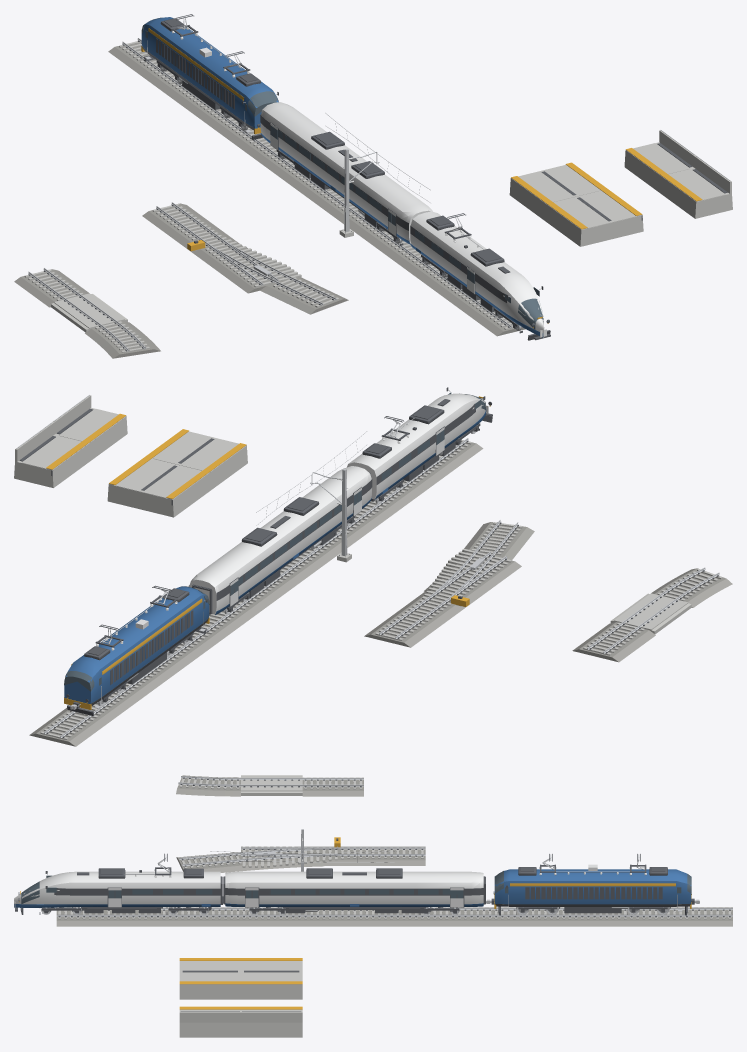
Rendered from modern-rail-and-metro-network-connector-cases-95ef7893__13728.glb.
3 views of the same model, one above another, from view 1: azimuth 30°, elevation 25°; view 2: azimuth 150°, elevation 25°; view 3: azimuth 270°, elevation 25° (orthographic). The views are drawn at different scales.
Visible parts, largest first — view 1: 007-high-speed-trailer-car/0, 006-high-speed-power-car/0, 008-electric-freight-locomotive/0, 010-island-platform-module/0, 008-electric-freight-locomotive/1, 012-side-platform-module/0, 009-island-platform-module/0, 006-high-speed-power-car/2, 007-high-speed-trailer-car/2, 011-side-platform-module/0, 004-turnout-right/1, 004-turnout-right/0 (+23 smaller); view 2: 007-high-speed-trailer-car/0, 008-electric-freight-locomotive/0, 006-high-speed-power-car/0, 009-island-platform-module/0, 008-electric-freight-locomotive/1, 011-side-platform-module/0, 010-island-platform-module/0, 007-high-speed-trailer-car/2, 006-high-speed-power-car/2, 012-side-platform-module/0, 004-turnout-right/1, 004-turnout-right/0 (+24 smaller); view 3: 007-high-speed-trailer-car/0, 008-electric-freight-locomotive/0, 006-high-speed-power-car/0, 008-electric-freight-locomotive/1, 007-high-speed-trailer-car/2, 006-high-speed-power-car/2, 009-island-platform-module/0, 010-island-platform-module/0, 011-side-platform-module/0, 012-side-platform-module/0, 004-turnout-right/0, 001-slab-track-straight-6m/0 (+22 smaller).
Part boxes in pixels (x1,y1,x2,y2): 007-high-speed-trailer-car/0: (260, 102, 432, 243); 006-high-speed-power-car/0: (410, 211, 544, 337); 008-electric-freight-locomotive/0: (141, 17, 278, 128); 010-island-platform-module/0: (545, 190, 643, 246); 008-electric-freight-locomotive/1: (142, 18, 278, 139); 012-side-platform-module/0: (660, 156, 732, 218); 009-island-platform-module/0: (509, 165, 601, 220); 006-high-speed-power-car/2: (410, 215, 550, 340); 007-high-speed-trailer-car/2: (260, 114, 408, 245); 011-side-platform-module/0: (624, 130, 695, 192); 004-turnout-right/1: (188, 229, 301, 287); 004-turnout-right/0: (177, 229, 301, 293); 007-high-speed-trailer-car/0: (189, 466, 371, 614); 008-electric-freight-locomotive/0: (64, 586, 209, 703); 006-high-speed-power-car/0: (347, 393, 485, 499); 009-island-platform-module/0: (107, 458, 210, 517); 008-electric-freight-locomotive/1: (64, 588, 208, 715); 011-side-platform-module/0: (14, 422, 90, 487); 010-island-platform-module/0: (152, 431, 247, 489); 007-high-speed-trailer-car/2: (188, 479, 372, 612); 006-high-speed-power-car/2: (362, 387, 492, 501); 012-side-platform-module/0: (52, 395, 127, 460); 004-turnout-right/1: (412, 548, 511, 613); 004-turnout-right/0: (401, 552, 521, 620); 007-high-speed-trailer-car/0: (225, 871, 483, 904); 008-electric-freight-locomotive/0: (494, 869, 691, 904); 006-high-speed-power-car/0: (14, 869, 220, 907); 008-electric-freight-locomotive/1: (491, 864, 694, 915); 007-high-speed-trailer-car/2: (223, 868, 483, 914); 006-high-speed-power-car/2: (15, 867, 222, 914); 009-island-platform-module/0: (241, 961, 302, 999); 010-island-platform-module/0: (179, 961, 240, 999); 011-side-platform-module/0: (241, 1009, 302, 1037); 012-side-platform-module/0: (179, 1009, 240, 1037); 004-turnout-right/0: (238, 846, 363, 870); 001-slab-track-straight-6m/0: (241, 775, 302, 795).
Size of the model in its own units: 60.54 by 8 by 70.15.
